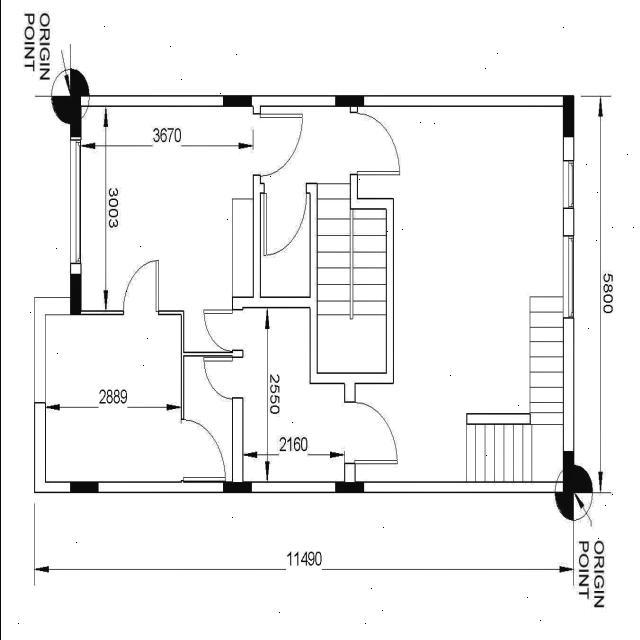Column: (562, 451, 574, 493), (69, 274, 81, 316), (69, 96, 81, 138), (562, 96, 574, 138), (334, 482, 363, 494), (222, 95, 251, 107), (334, 95, 363, 107), (222, 482, 250, 494), (70, 481, 98, 493)
Door: (343, 402, 397, 464), (349, 111, 399, 176), (262, 183, 306, 256), (252, 114, 302, 176), (180, 419, 225, 481), (122, 260, 158, 316), (202, 309, 242, 352), (202, 358, 242, 398)
Staircase: (466, 296, 562, 482), (317, 183, 385, 372)
Window: (69, 140, 81, 264), (562, 236, 574, 318), (562, 160, 574, 208)
